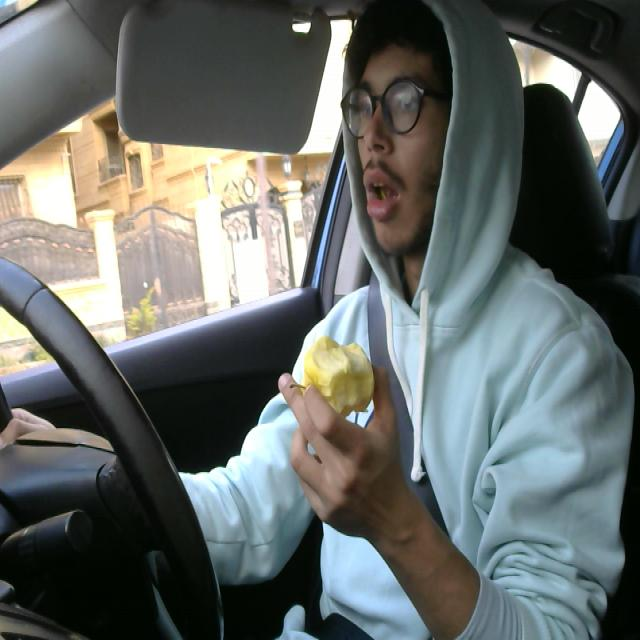eating: (298, 322, 378, 428)
